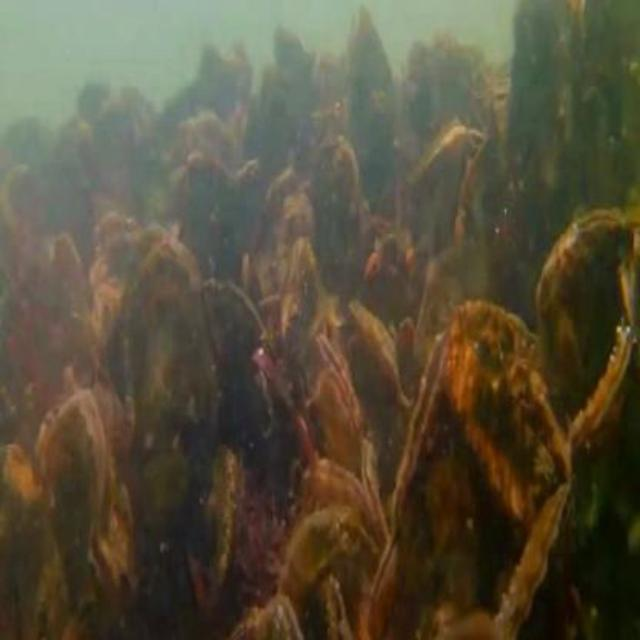Oyster-Closed: (121, 241, 215, 538), (444, 306, 572, 522), (538, 206, 637, 406), (39, 394, 109, 570), (499, 487, 572, 640), (399, 324, 450, 540), (566, 324, 630, 479), (183, 426, 238, 605), (203, 280, 269, 420), (344, 293, 409, 415), (279, 527, 368, 606), (293, 461, 382, 536), (348, 11, 395, 129), (417, 124, 485, 205), (316, 363, 363, 479), (366, 529, 408, 640), (284, 241, 319, 367), (235, 587, 302, 639), (308, 575, 354, 640), (314, 335, 351, 398)
